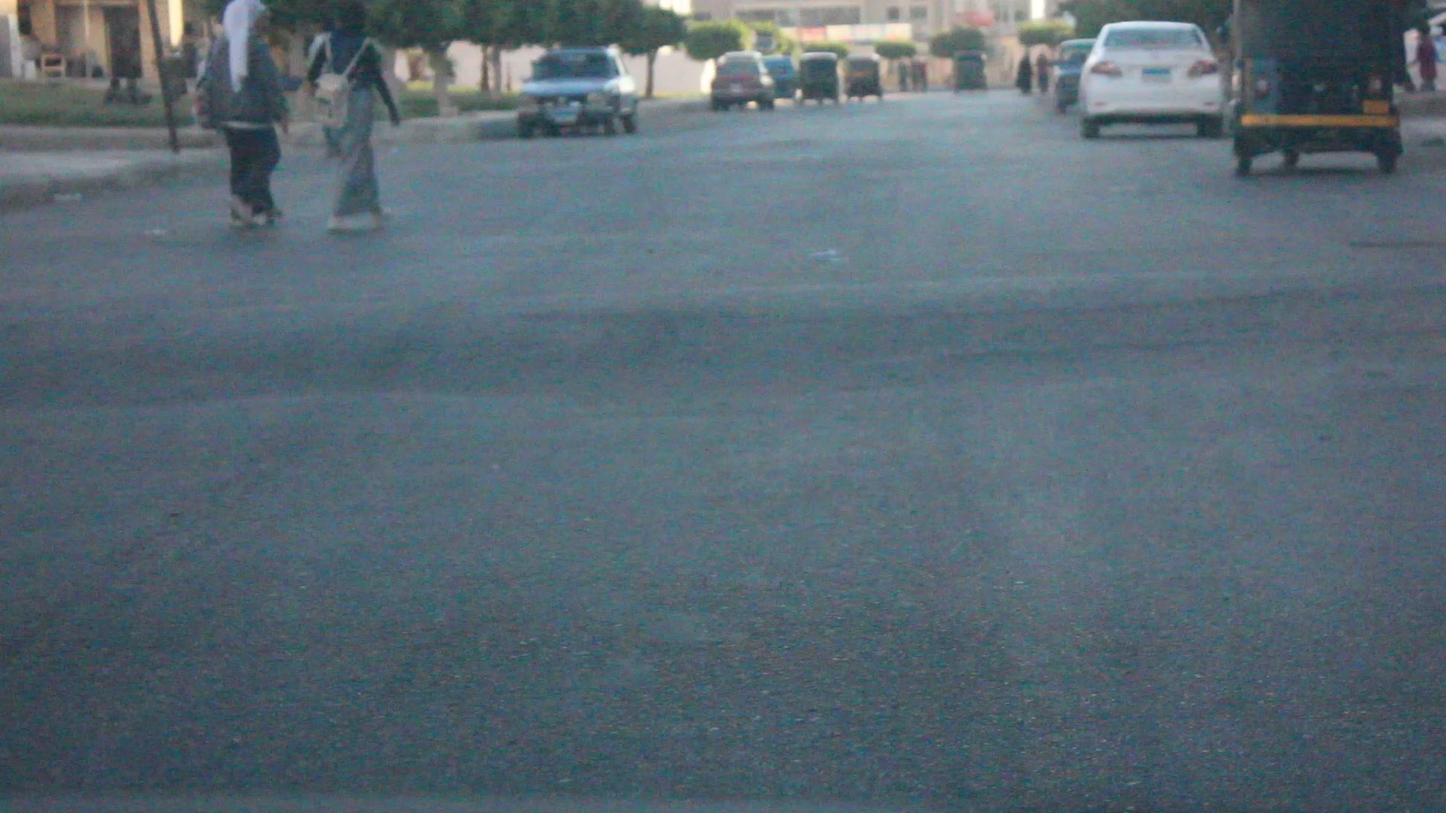Bump: (0, 282, 1446, 452)
